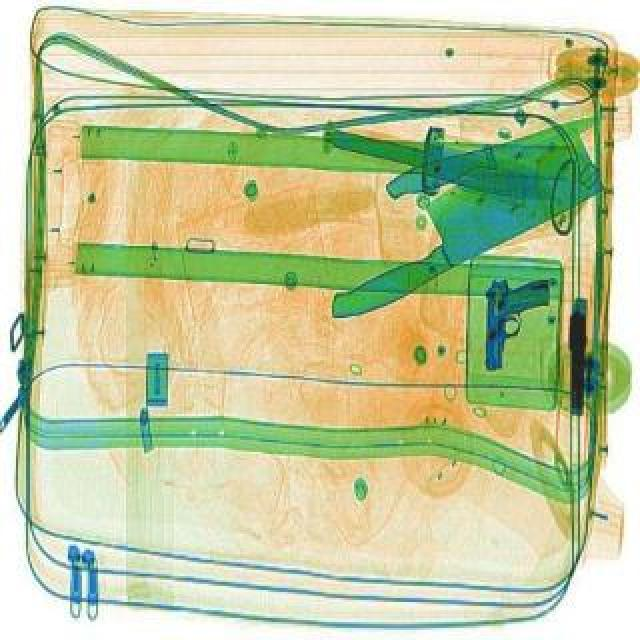gun: (484, 280, 552, 376), (568, 302, 590, 418)
knife: (296, 122, 616, 330), (382, 106, 614, 210), (332, 126, 562, 214)
